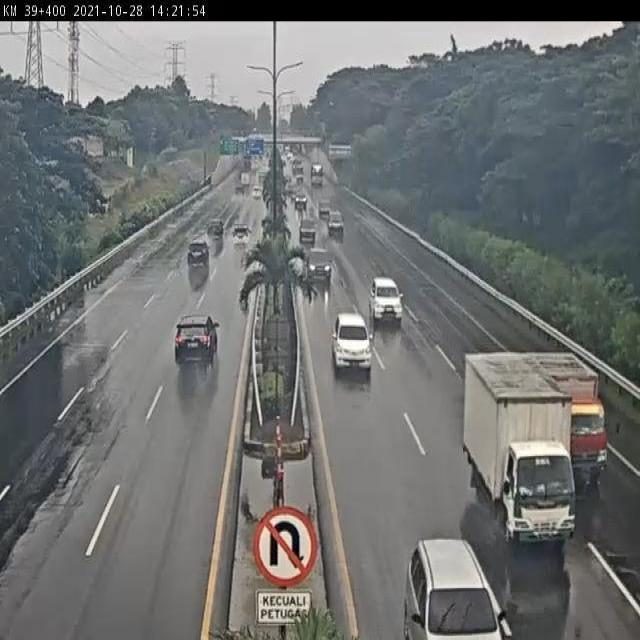car: (399, 534, 503, 640), (175, 312, 221, 368), (332, 308, 370, 367), (369, 279, 403, 321), (305, 246, 333, 282), (187, 242, 211, 270), (230, 225, 252, 247), (209, 217, 225, 239)
truck-m-: (464, 352, 576, 541)
truck-s-: (526, 355, 608, 481)
